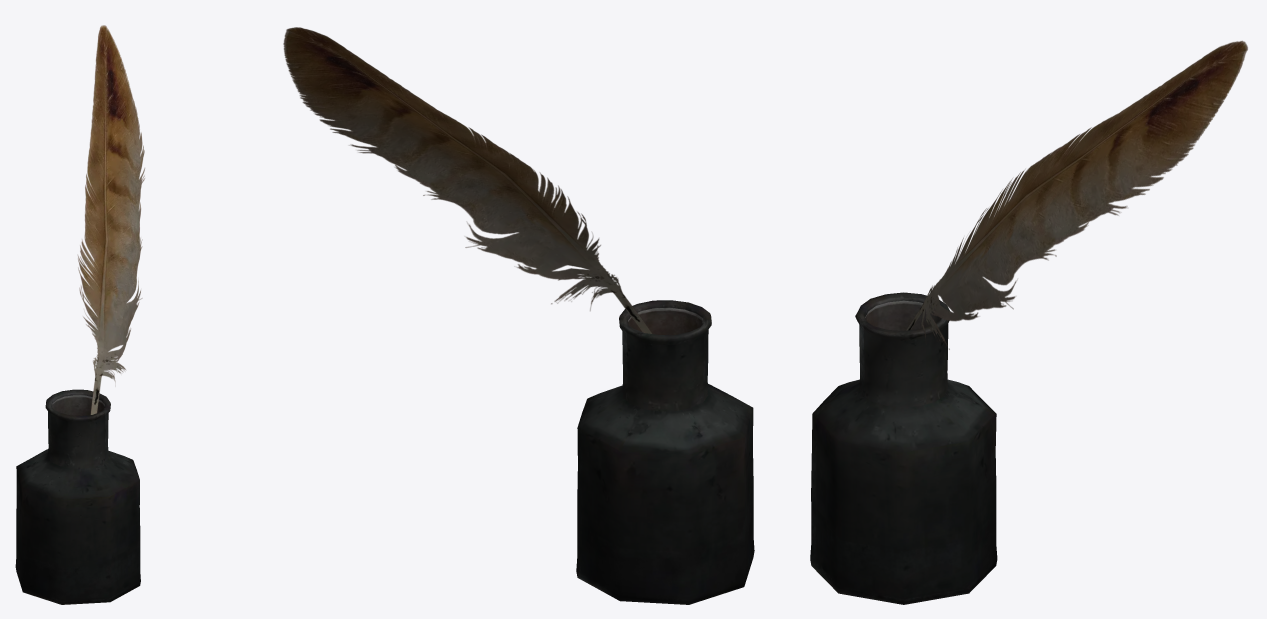
Rendered from ink_bottle_with_quill.glb.
The picture shows the model from 3 angles, left to right: view 1: azimuth 30°, elevation 25°; view 2: azimuth 150°, elevation 25°; view 3: azimuth 270°, elevation 25°; orthographic projection. The views are drawn at different scales.
Visible parts, largest first — view 1: Victorian Ink Bottle_Victorian Ink Bottle_0; view 2: Victorian Ink Bottle_Victorian Ink Bottle_0; view 3: Victorian Ink Bottle_Victorian Ink Bottle_0.
Boxes of the visible parts, x1=… form: Victorian Ink Bottle_Victorian Ink Bottle_0: x1=15, y1=25, x2=144, y2=604; Victorian Ink Bottle_Victorian Ink Bottle_0: x1=283, y1=27, x2=754, y2=604; Victorian Ink Bottle_Victorian Ink Bottle_0: x1=810, y1=40, x2=1247, y2=604.
Bounding box in the file's own units: 0.1033 × 0.1558 × 0.0972.
Materials: 1 (1 with a texture image).
